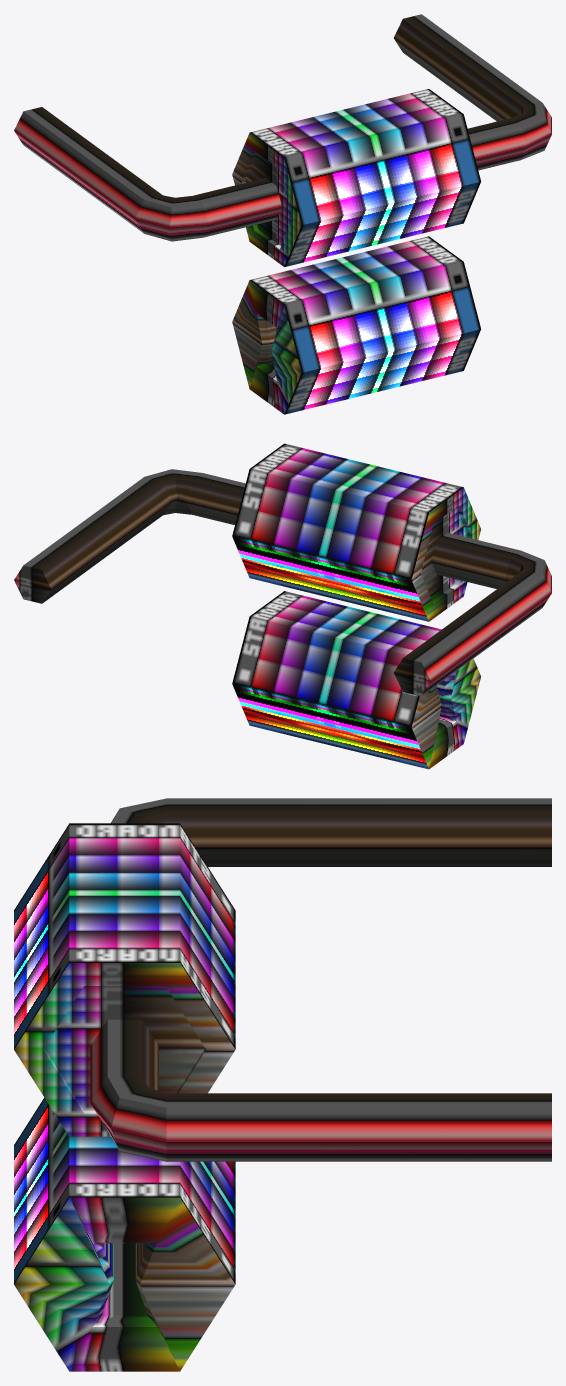
The model's file is Door_Handle.glb.
3 renders of one model, top to bottom at view 1: azimuth 30°, elevation 25°; view 2: azimuth 150°, elevation 25°; view 3: azimuth 270°, elevation 25°, orthographic. The views are drawn at different scales.
Visible parts, largest first — view 1: Door Handle; view 2: Door Handle; view 3: Door Handle.
Part boxes in pixels (bbox=[...]): Door Handle: bbox=[14, 14, 551, 414]; Door Handle: bbox=[14, 443, 551, 769]; Door Handle: bbox=[14, 798, 551, 1371].
Bounding box in the file's own units: 0.4246 × 0.2498 × 0.298.
1 material, 1 textured.
